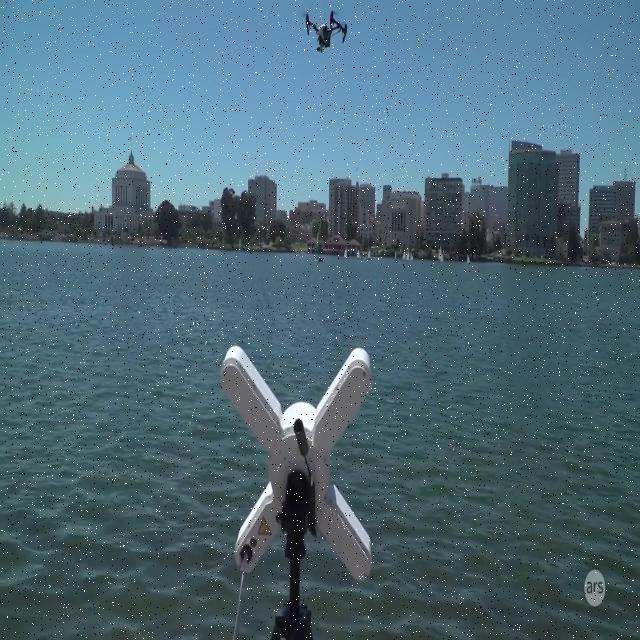UAV: (304, 11, 348, 53)
